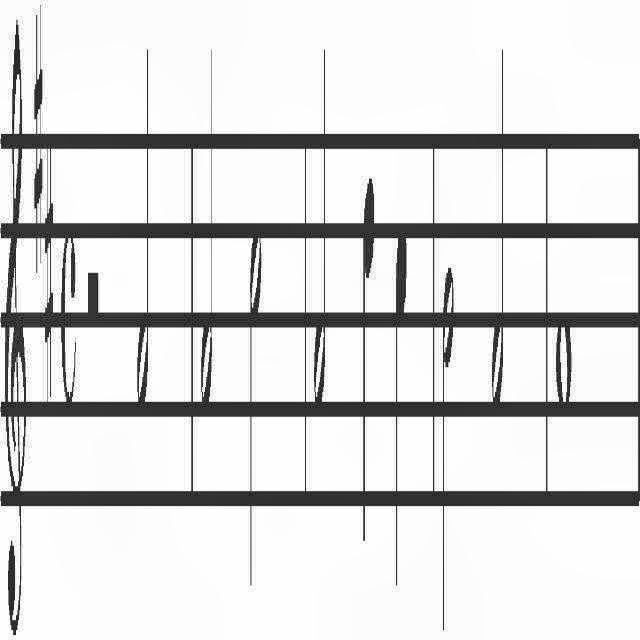Bass-clef: (4, 15, 27, 640)
Diez: (33, 0, 43, 294), (44, 135, 54, 413)
Full-note: (555, 307, 573, 413)
Half-note: (134, 32, 150, 420), (313, 23, 327, 420), (491, 22, 505, 414), (200, 29, 214, 420), (250, 222, 262, 606), (442, 260, 454, 640)
Quarter-note: (360, 175, 376, 559), (394, 218, 408, 602)
